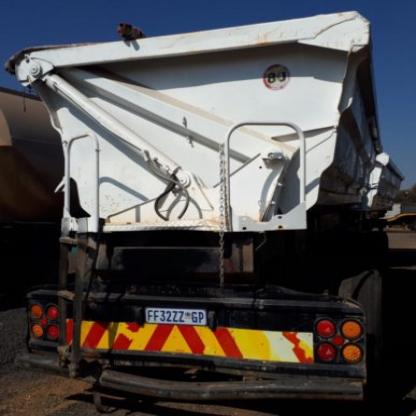dump_truck: (7, 10, 415, 399)
